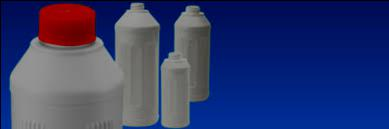Plastic: (34, 2, 99, 45)
